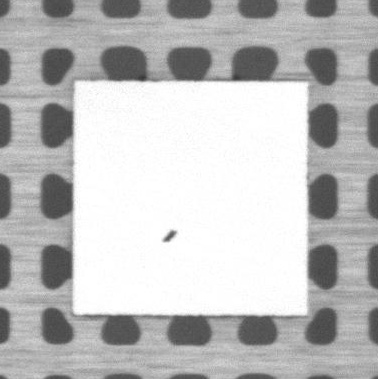DIE_INK: (162, 229, 177, 243)
